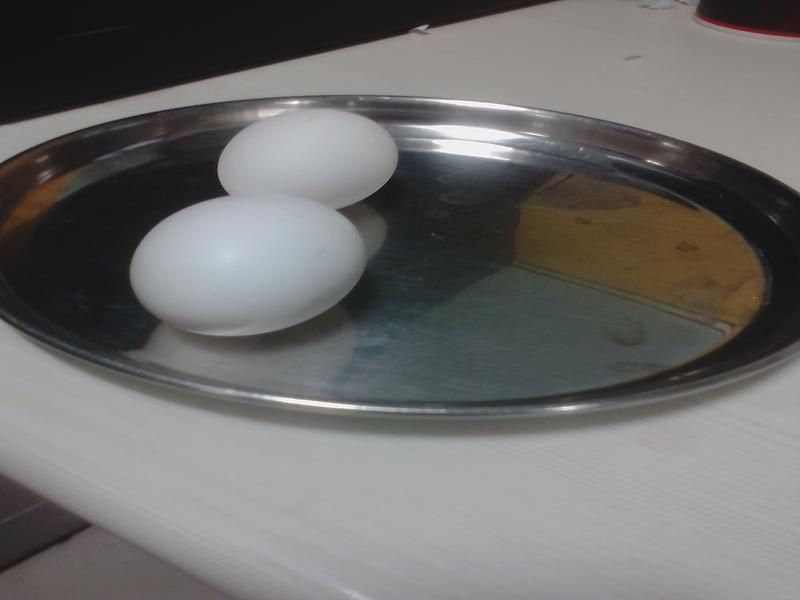egg: (130, 192, 370, 340)
